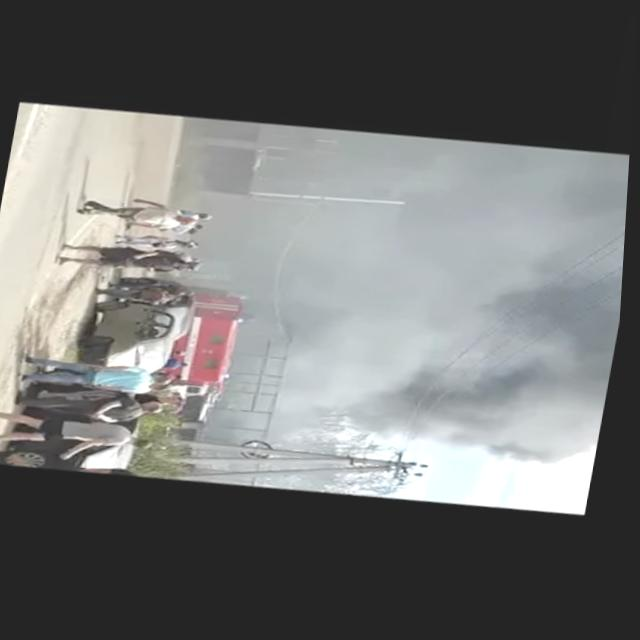Smoke: (173, 111, 634, 484)
